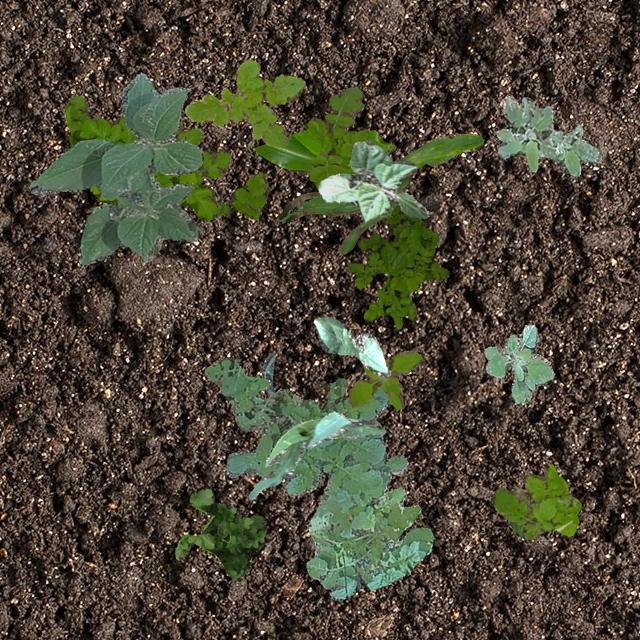crop: (28, 72, 202, 264), (253, 128, 482, 252), (248, 411, 384, 498), (318, 140, 428, 220), (312, 316, 390, 376), (252, 352, 274, 402)
weed: (204, 356, 432, 598), (64, 94, 268, 220), (346, 202, 449, 328), (183, 58, 304, 146), (494, 95, 600, 176), (174, 488, 266, 580), (306, 86, 381, 188), (490, 462, 580, 538), (483, 323, 552, 402), (348, 348, 422, 408), (114, 194, 160, 250)
